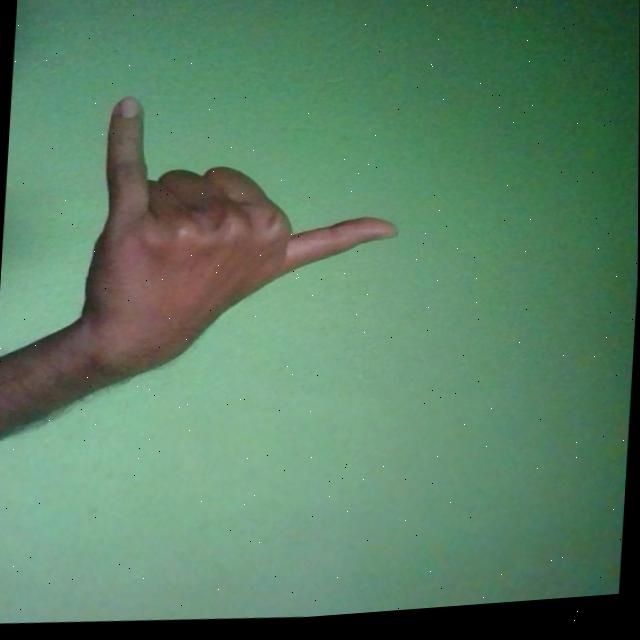Call Me: (78, 82, 405, 401)
